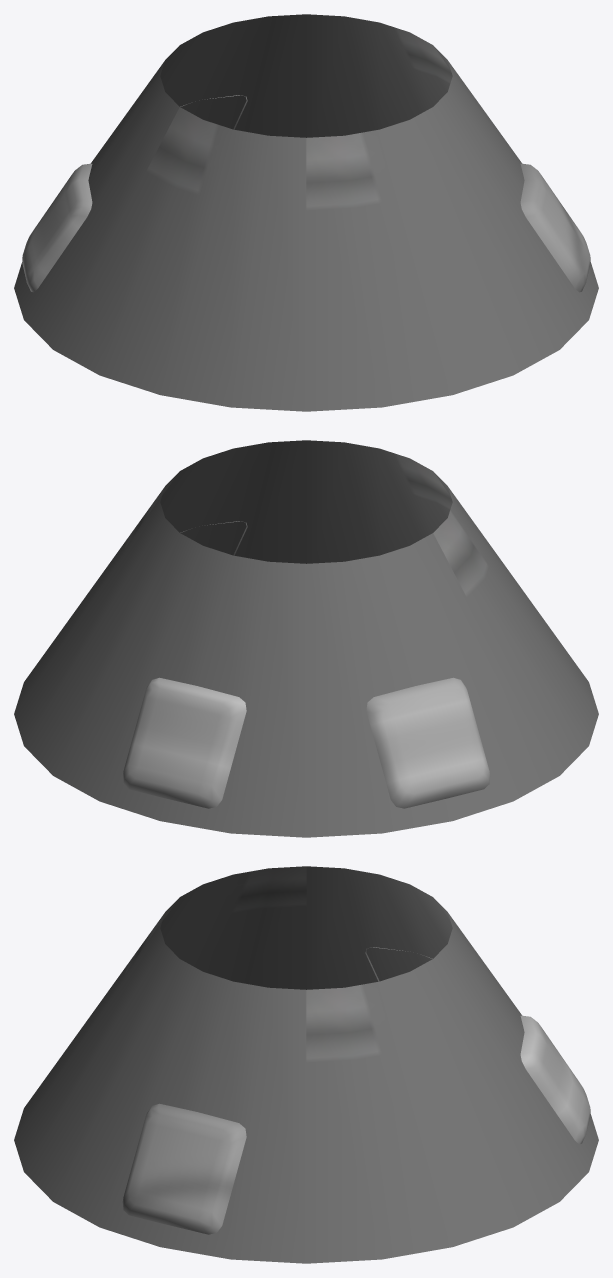
Rendered from eridani_adapter_s1_s0_1.obj.
3 views of the same model, one above another, from view 1: azimuth 30°, elevation 25°; view 2: azimuth 150°, elevation 25°; view 3: azimuth 270°, elevation 25° (orthographic).
Visible parts, largest first — view 1: mesh1; view 2: mesh1; view 3: mesh1.
Part boxes in pixels (bbox=[...]): mesh1: bbox=[14, 14, 598, 411]; mesh1: bbox=[14, 440, 598, 837]; mesh1: bbox=[14, 866, 598, 1263].
Size of the model in its own units: 1.25 by 0.5 by 1.25.
1 material, 1 textured.
